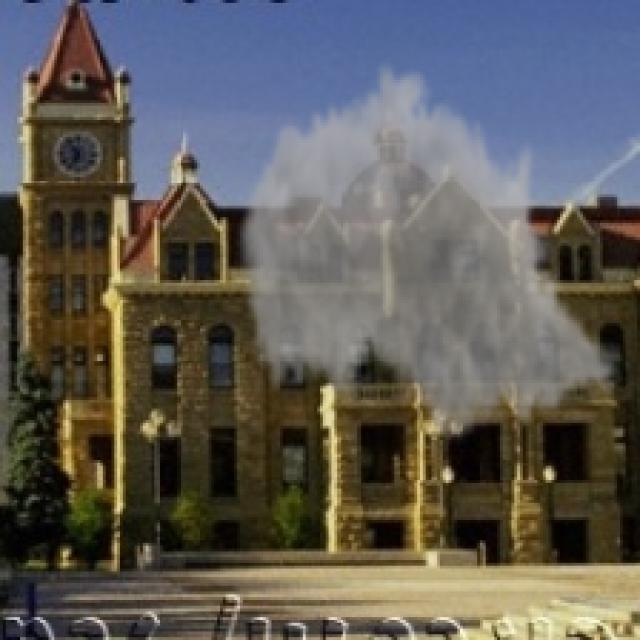smoke: (234, 54, 620, 452)
